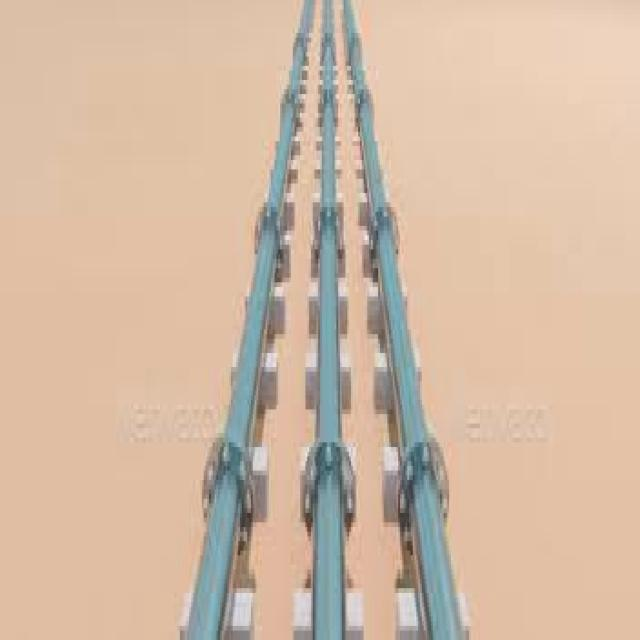gas: (187, 0, 312, 640), (343, 0, 461, 640), (305, 0, 350, 640)
